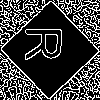R: (25, 25, 71, 62)
